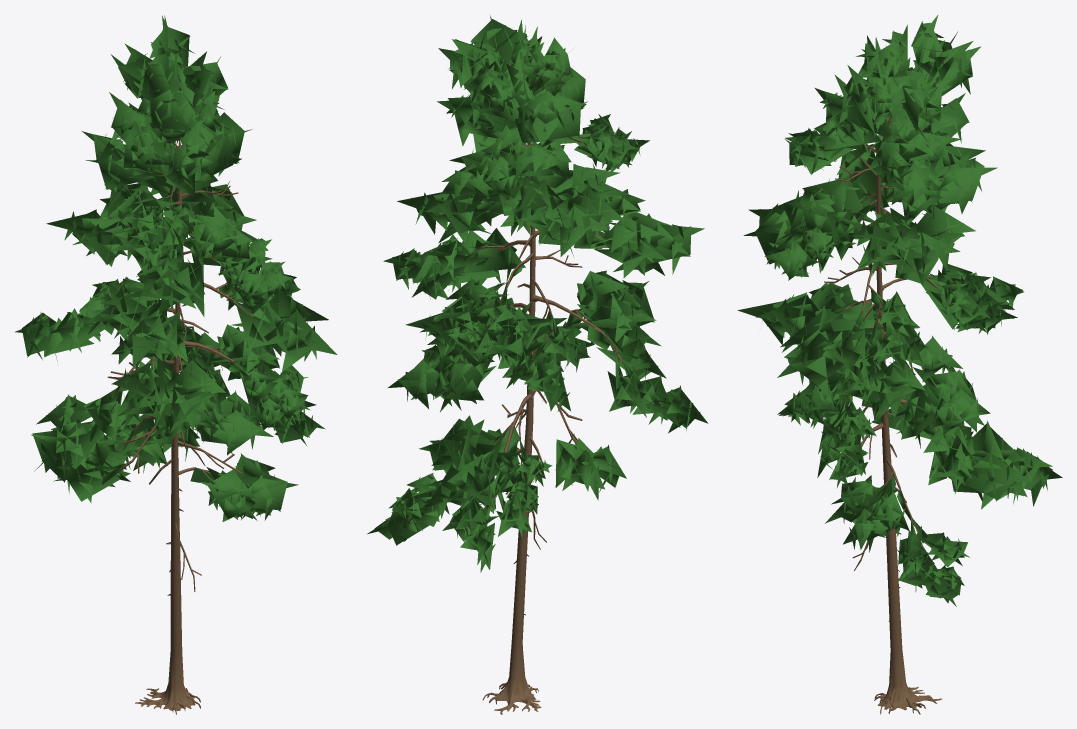
Rendered from Pine_A.obj.
3 renders of one model, left to right at view 1: azimuth 30°, elevation 25°; view 2: azimuth 150°, elevation 25°; view 3: azimuth 270°, elevation 25°, orthographic. The views are drawn at different scales.
Parts seen in each view (by area): view 1: Leaves, Trunk; view 2: Leaves, Trunk; view 3: Leaves, Trunk.
Boxes of the visible parts, bbox=[...] form: Leaves: bbox=[15, 15, 337, 521]; Trunk: bbox=[107, 139, 252, 714]; Leaves: bbox=[367, 15, 708, 572]; Trunk: bbox=[474, 137, 624, 714]; Leaves: bbox=[737, 15, 1062, 606]; Trunk: bbox=[817, 116, 952, 714].
Size of the model in its own units: 18.03 by 40.19 by 17.07.
